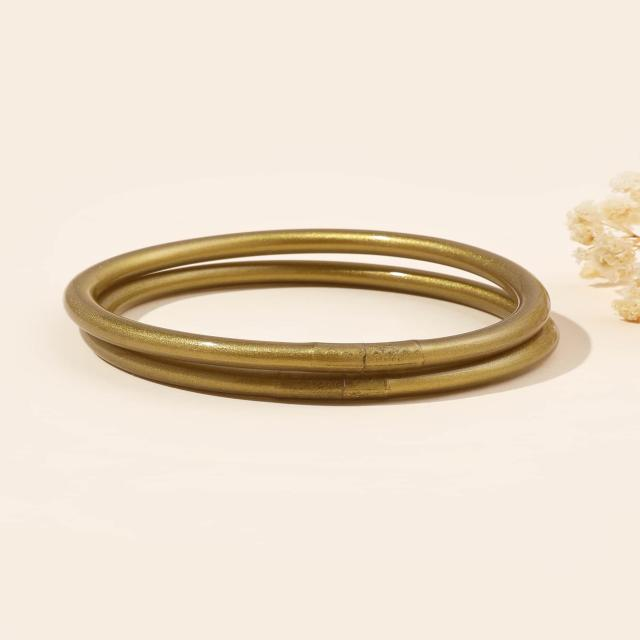bracelet: (12, 148, 619, 486)
